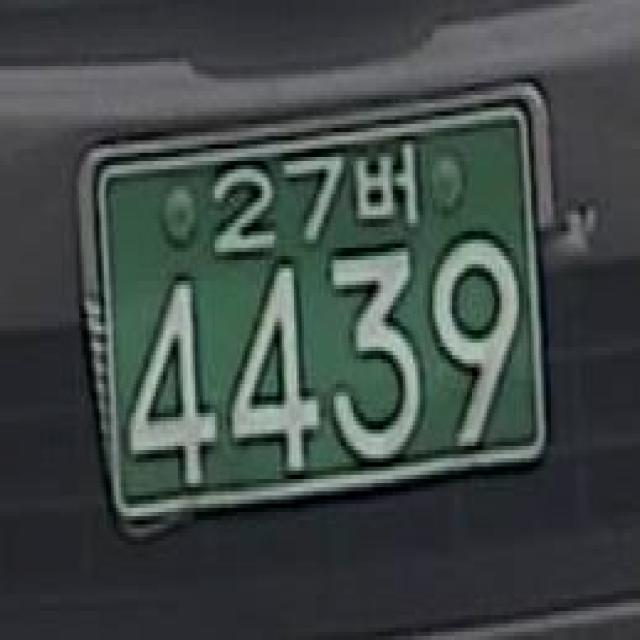illegal_plate: (77, 87, 571, 546)
